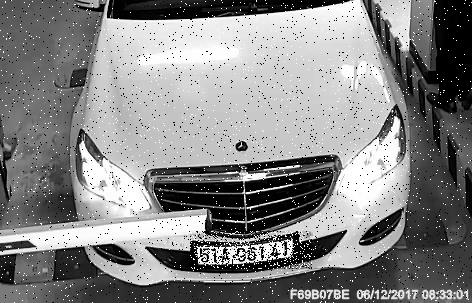License-plate: (192, 232, 314, 270)
